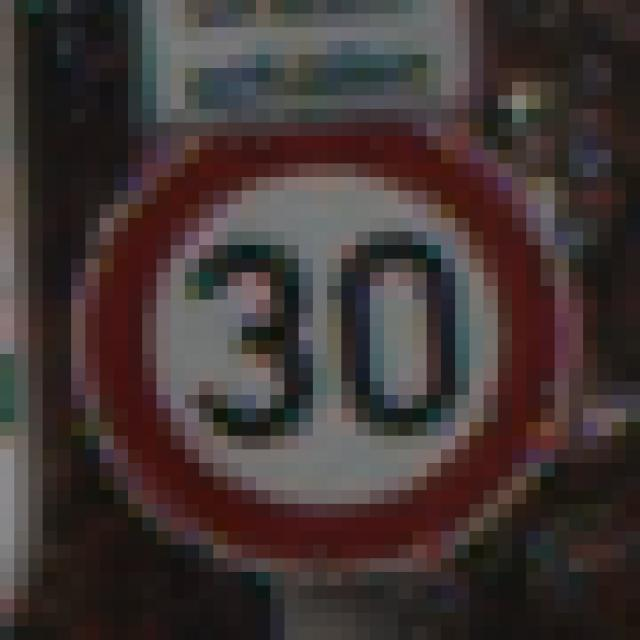Speed Limit -30-: (64, 74, 562, 552)
